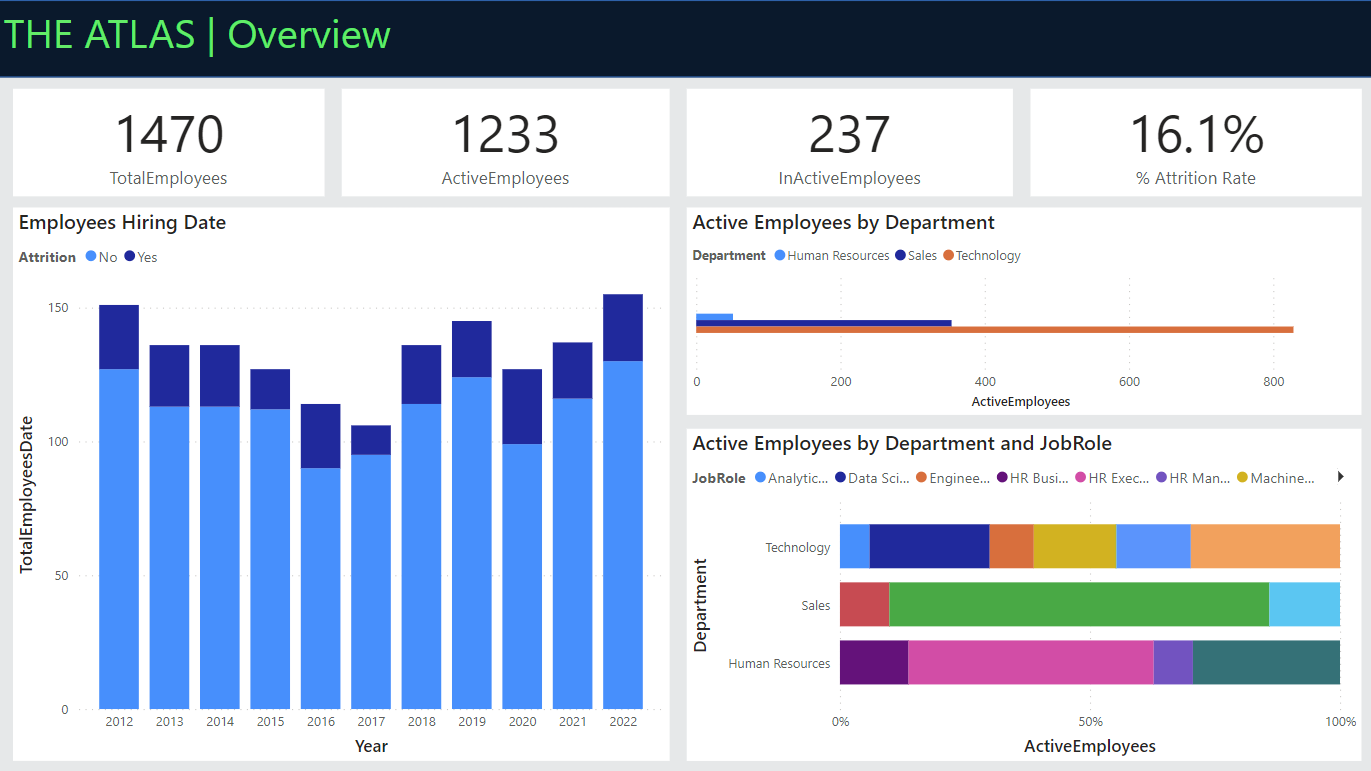

Layout of this report page (visuals, bound fields, positions):
{"tool":"powerbi","page":{"name":"Overview","canvas":[1280,720],"ordinal":0},"visuals":[{"type":"card","fields":{"Values":["TotalEmployees.TotalEmployees"]},"box":[0,0,319.5,154.9],"z":0},{"type":"card","fields":{"Values":["_Measures.ActiveEmployees"]},"box":[319.5,0,320.8,154.9],"z":1000},{"type":"card","fields":{"Values":["_Measures.InActiveEmployees"]},"box":[640.3,0,319.5,154.9],"z":2000},{"type":"card","fields":{"Values":["_Measures.% Attrition Rate"]},"box":[959.7,0,320.8,154.9],"z":3000},{"type":"columnChart","title":"Employees Hiring Date","fields":{"Y":["_Measures.TotalEmployeesDate"],"Category":["DimDate.Date.Variation.Date Hierarchy.Year","DimDate.Date.Variation.Date Hierarchy.Quarter","DimDate.Date.Variation.Date Hierarchy.Month","DimDate.Date.Variation.Date Hierarchy.Day"],"Series":["DimEmployee.Attrition"]},"box":[0,154.8,640,564.5],"z":4000},{"type":"clusteredBarChart","title":"Active Employees by Department","fields":{"Y":["_Measures.ActiveEmployees"],"Series":["DimEmployee.Department"]},"box":[640,154.8,640,205.8],"z":5000},{"type":"hundredPercentStackedBarChart","title":"Active Employees by Department and JobRole","fields":{"Category":["DimEmployee.Department"],"Y":["_Measures.ActiveEmployees"],"Series":["DimEmployee.JobRole"]},"box":[640,360.6,640,358.7],"z":6000}]}

Visuals, with their boxes in screenshot pixels (x1, y1, x2, y2), scaled from the page's 1280x720 canvas onto the 1371x771 screenshot:
card - TotalEmployees.TotalEmployees: left=0, top=0, right=342, bottom=166
card - _Measures.ActiveEmployees: left=342, top=0, right=686, bottom=166
card - _Measures.InActiveEmployees: left=686, top=0, right=1028, bottom=166
card - _Measures.% Attrition Rate: left=1028, top=0, right=1370, bottom=166
"Employees Hiring Date" columnChart: left=0, top=166, right=686, bottom=770
"Active Employees by Department" clusteredBarChart: left=686, top=166, right=1370, bottom=386
"Active Employees by Department and JobRole" hundredPercentStackedBarChart: left=686, top=386, right=1370, bottom=770
